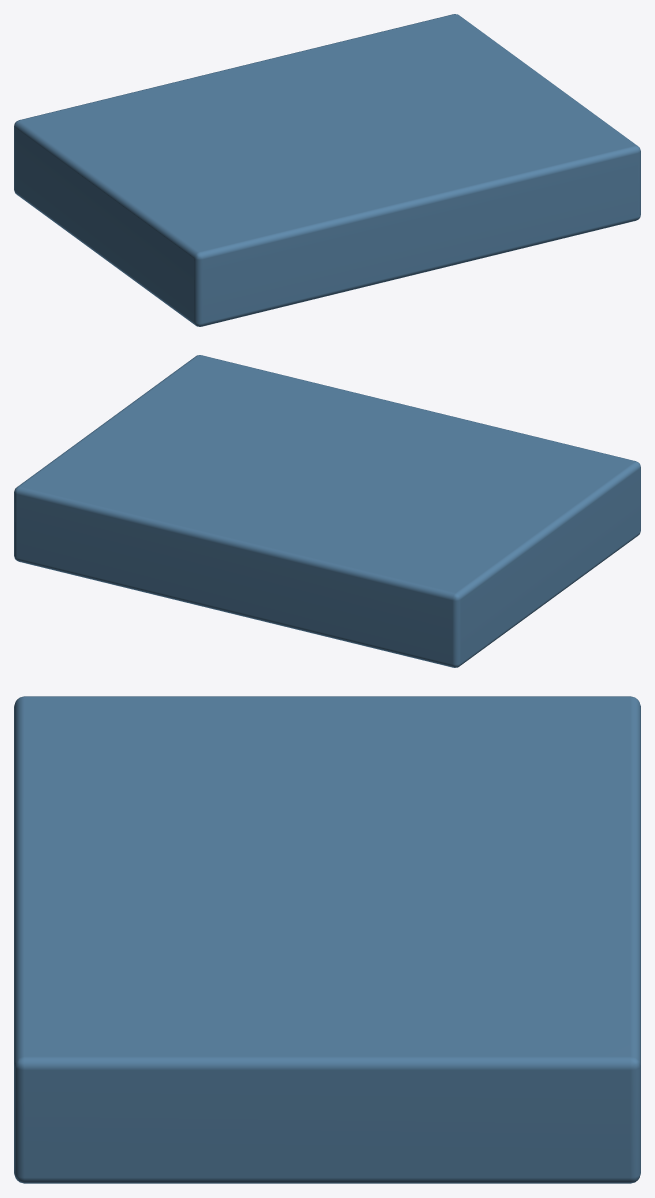
The model's file is atelier-photo-album.glb.
3 renders of one model, top to bottom at view 1: azimuth 30°, elevation 25°; view 2: azimuth 150°, elevation 25°; view 3: azimuth 270°, elevation 25°, orthographic. The views are drawn at different scales.
Visible parts, largest first — view 1: artBlue.018; view 2: artBlue.018; view 3: artBlue.018.
Boxes of the visible parts, bbox=[...] form: artBlue.018: bbox=[14, 14, 640, 326]; artBlue.018: bbox=[14, 355, 640, 667]; artBlue.018: bbox=[14, 696, 640, 1183].
Size of the model in its own units: 0.25 by 0.04 by 0.18.
